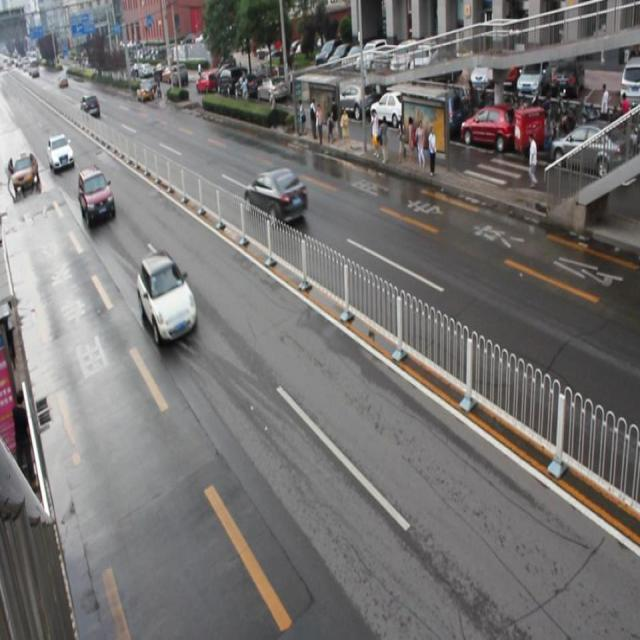car: (137, 250, 197, 344), (243, 170, 307, 225), (78, 165, 116, 224)
